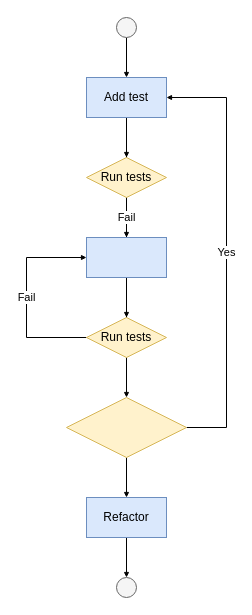
The diagram is 252 pixels wide and 615 high, and some of its shapes have lost their labels. Each missing label, with the box of its shape:
Need more functionality?: (66, 396, 186, 458)
Write code: (86, 236, 166, 278)
